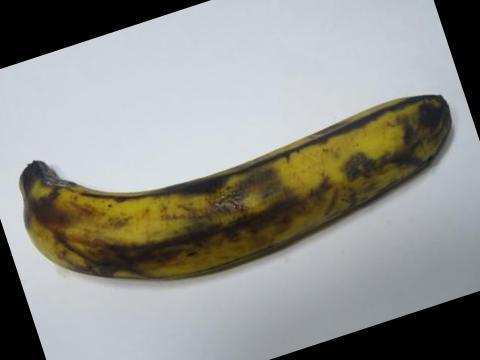overripe: (12, 72, 468, 291)
rotten: (156, 153, 286, 232)
